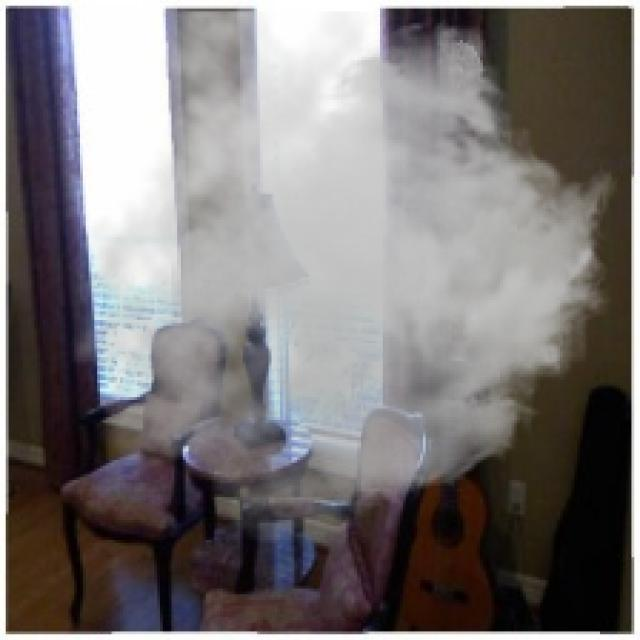Smoke: (69, 11, 620, 546)
